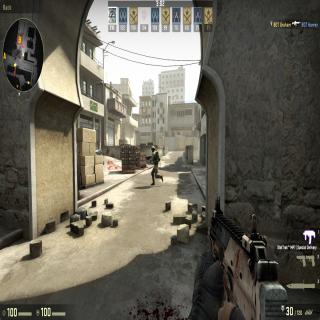CT-Body: (150, 145, 160, 185)
CT-Head: (151, 145, 156, 152)
